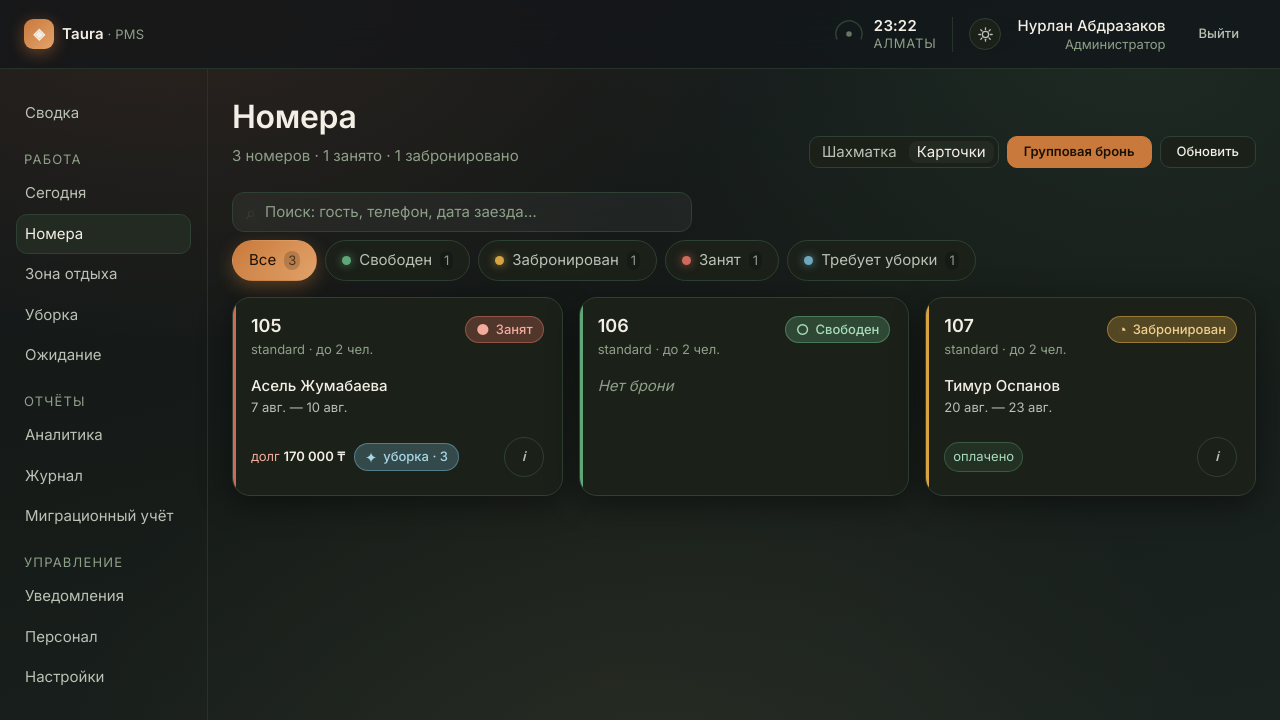
Test: §5 search and filter › filters by guest name
Expected: the button "105" is shown, x1=251 y1=316 x2=544 y2=417
In the search field: (462, 212) x1=232 y1=192 x2=692 y2=232, type "Тимур"
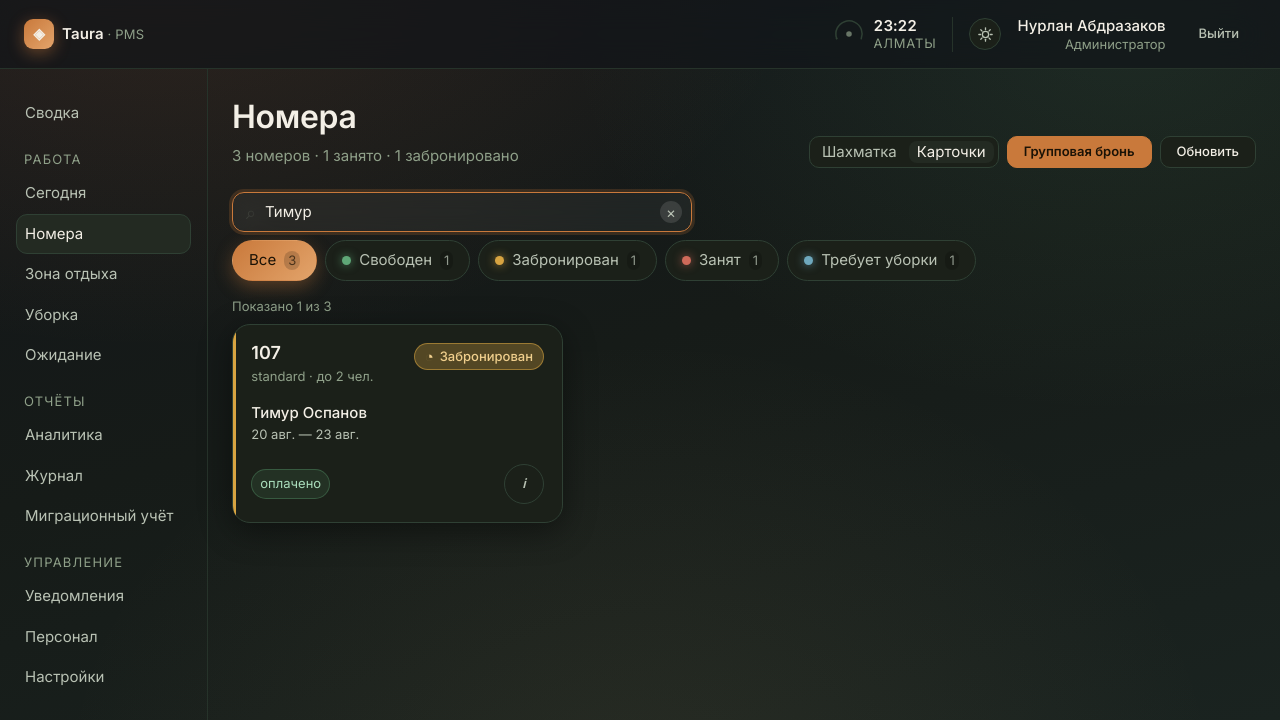
Expected: the button "107" is shown, x1=251 y1=343 x2=544 y2=445
Now the button "105" is gone
